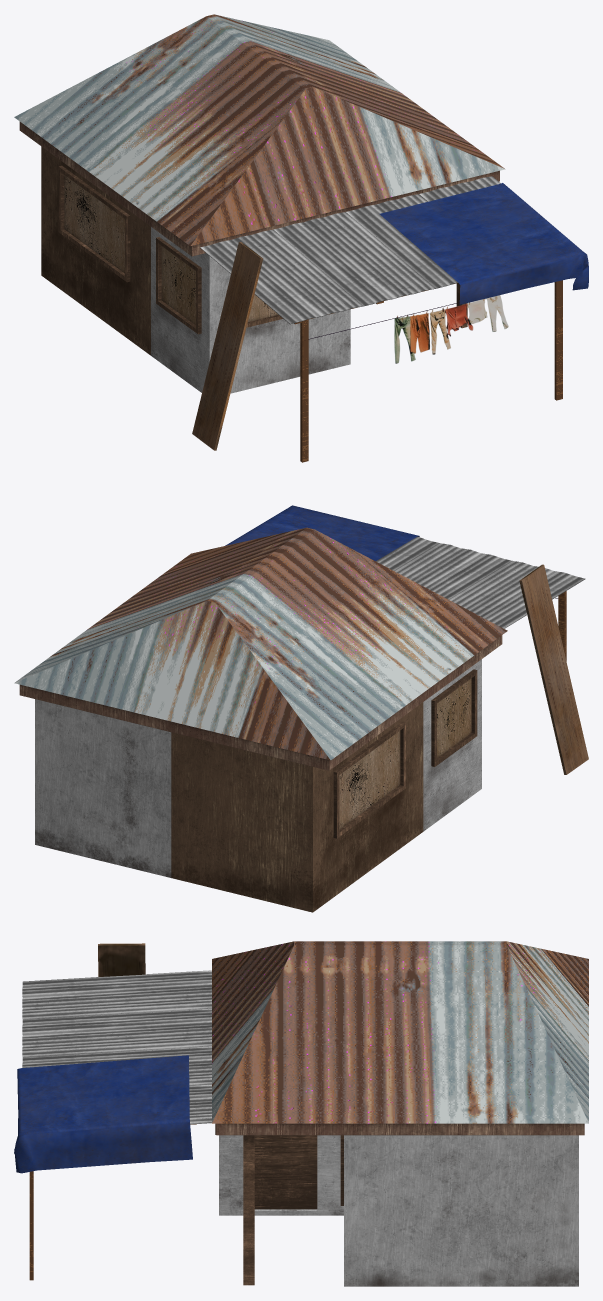
File: house plywood2.glb
3 renders of one model, top to bottom at view 1: azimuth 30°, elevation 25°; view 2: azimuth 150°, elevation 25°; view 3: azimuth 270°, elevation 25°, orthographic. The views are drawn at different scales.
Visible parts, largest first — view 1: Plane, Cube, Plane.001, Cube.003, Cube.002, Wood Upper\, Untitled design, Cube.004, plank, Cube.005; view 2: Plane, Cube, Wood Upper\, Plane.001, Cube.002, Cube.003, Cube.004; view 3: Plane, Cube, Plane.001, Cube.002, Cube.003, Cube.004, Cube.001, Wood Upper\, Cube.005, plank.
Part boxes in pixels (<box>): Plane: <box>14,14,505,256</box>; Cube: <box>41,146,350,393</box>; Plane.001: <box>379,183,588,304</box>; Cube.003: <box>273,212,435,306</box>; Cube.002: <box>200,229,363,324</box>; Wood Upper\: <box>192,242,263,450</box>; Untitled design: <box>394,295,508,363</box>; Cube.004: <box>346,194,457,288</box>; plank: <box>294,280,562,462</box>; Cube.005: <box>419,176,500,201</box>; Plane: <box>14,527,507,770</box>; Cube: <box>35,659,481,912</box>; Wood Upper\: <box>519,564,588,774</box>; Plane.001: <box>225,505,419,561</box>; Cube.002: <box>449,560,585,628</box>; Cube.003: <box>394,543,511,599</box>; Cube.004: <box>376,537,438,570</box>; Plane: <box>212,941,588,1135</box>; Cube: <box>215,1123,578,1286</box>; Plane.001: <box>14,1055,192,1173</box>; Cube.002: <box>22,970,211,1019</box>; Cube.003: <box>22,1008,211,1057</box>; Cube.004: <box>22,1046,211,1085</box>; Cube.001: <box>243,1135,254,1285</box>; Wood Upper\: <box>98,943,145,976</box>; Cube.005: <box>189,1084,211,1124</box>; plank: <box>29,1124,196,1280</box>.
Bounding box in the file's own units: 16.07 × 11.35 × 21.77.
Materials: 11 (10 with a texture image).
